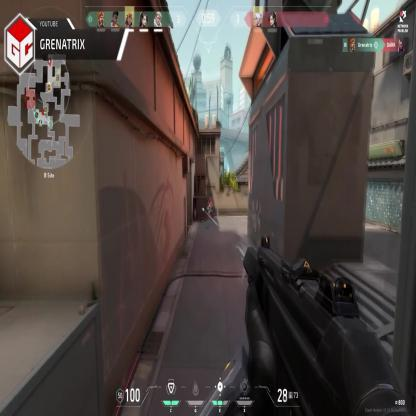enemy: (208, 196, 212, 221)
enemy_head: (210, 199, 212, 203)
